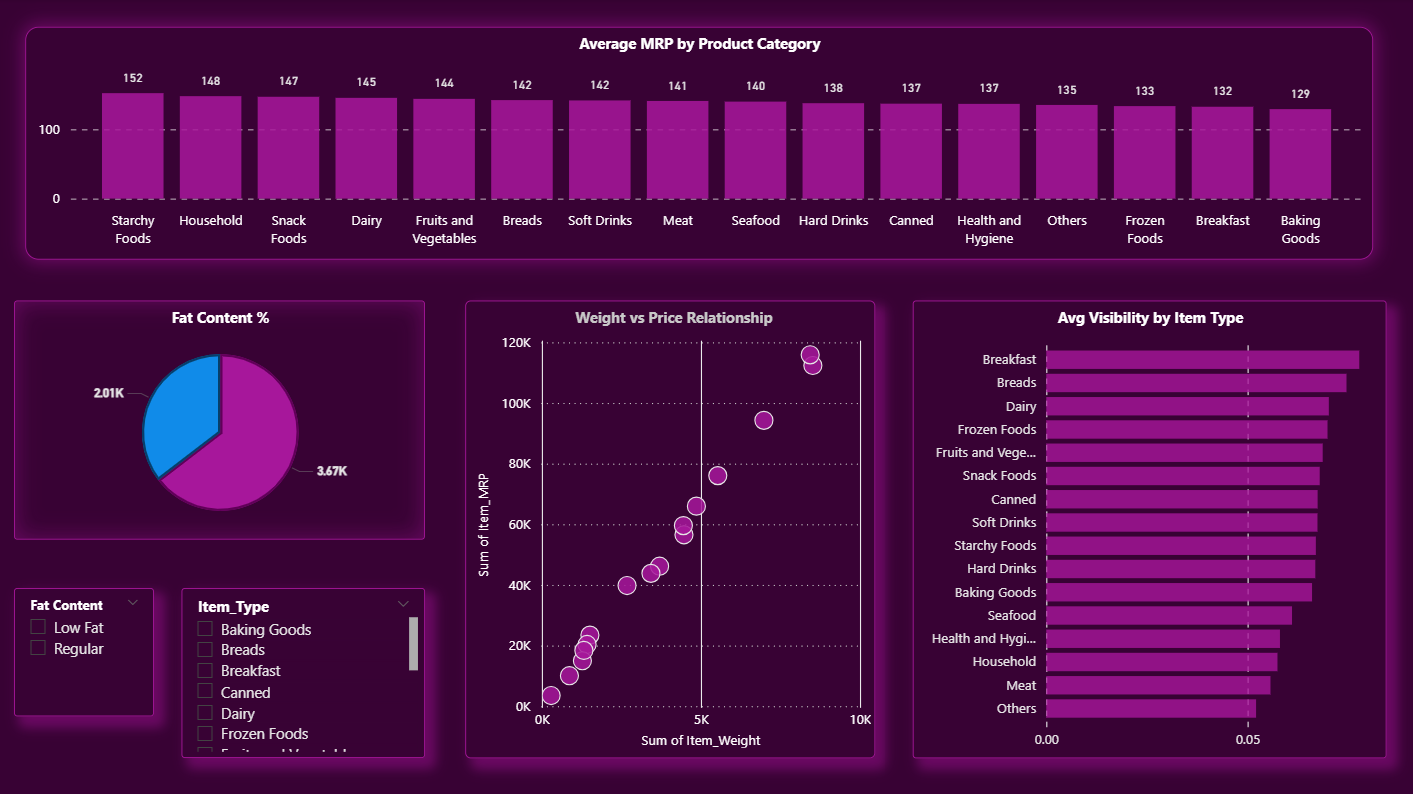

This screenshot's page, from the dashboard's own definition file:
{"tool":"powerbi","page":{"name":"Page 2","canvas":[1280,720],"ordinal":1},"visuals":[{"type":"clusteredColumnChart","title":"Average MRP by Product Category","fields":{"Category":["Test.Item_Type"],"Y":["Avg(Test.Item_MRP)"]},"box":[13.7,12.3,1257,241.5],"z":0},{"type":"barChart","title":"Avg Visibility by Item Type","fields":{"Category":["Test.Item_Type"],"Y":["Avg(Test.Item_Visibility)"]},"box":[823.3,273.1,429.5,430.9],"z":1000},{"type":"pieChart","title":"Fat Content %","fields":{"Category":["Test.Item_Fat_Content"],"Y":["CountNonNull(Test.Item_Identifier)"]},"box":[13.7,273.1,396.6,247],"z":2000},{"type":"scatterChart","title":"Weight vs Price Relationship","fields":{"X":["Sum(Test.Item_Weight)"],"Y":["Sum(Test.Item_MRP)"],"Category":["Test.Item_Type"]},"box":[421.3,273.1,385.6,430.9],"z":3000},{"type":"slicer","fields":{"Values":["Test.Item_Fat_Content"]},"box":[13.7,532.4,141.3,108.4],"z":4000},{"type":"slicer","fields":{"Values":["Test.Item_Type"]},"box":[171.5,532.4,238.8,171.5],"z":5000}]}

Visuals, with their boxes in screenshot pixels (x1, y1, x2, y2), scaled from the page's 1280x720 canvas onto the 1413x794 screenshot:
"Average MRP by Product Category" clusteredColumnChart: (left=15, top=14, right=1403, bottom=280)
"Avg Visibility by Item Type" barChart: (left=909, top=301, right=1383, bottom=776)
"Fat Content %" pieChart: (left=15, top=301, right=453, bottom=574)
"Weight vs Price Relationship" scatterChart: (left=465, top=301, right=891, bottom=776)
slicer - Test.Item_Fat_Content: (left=15, top=587, right=171, bottom=707)
slicer - Test.Item_Type: (left=189, top=587, right=453, bottom=776)
